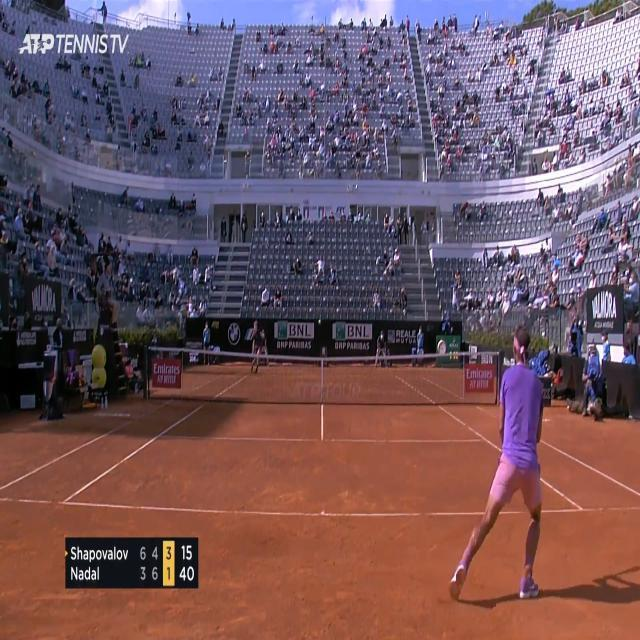court: (0, 376, 640, 516)
net: (142, 348, 504, 401)
player: (449, 322, 546, 602), (250, 320, 266, 376)
